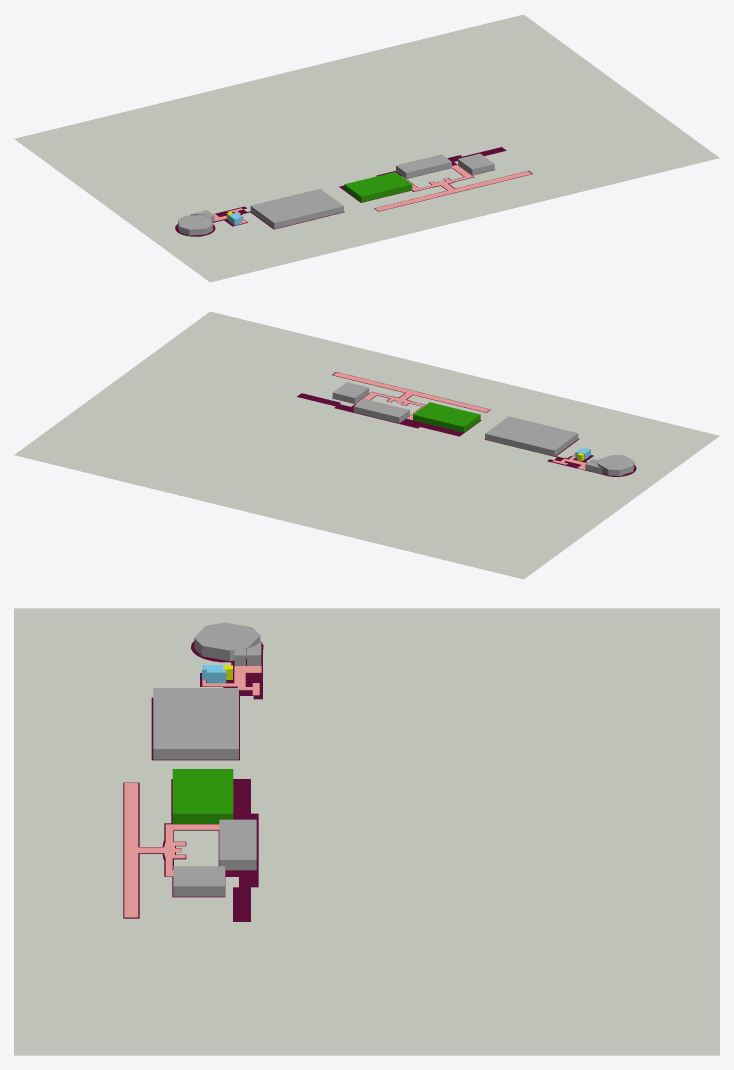
Rendered from njc-b1-v2-31-3.glb.
The picture shows the model from 3 angles, top to bottom: view 1: azimuth 30°, elevation 25°; view 2: azimuth 150°, elevation 25°; view 3: azimuth 270°, elevation 25°; orthographic projection. The views are drawn at different scales.
Parts seen in each view (by area): view 1: Grey, None, Base, Gymnasium Level 2, Foot, Material; view 2: Grey, None, Base, Gymnasium Level 2, Foot; view 3: Grey, None, Base, Foot, Gymnasium Level 2, Material.
Part boxes in pixels (x1=…): Grey: x1=14, y1=14, x2=719, y2=282; None: x1=178, y1=153, x2=494, y2=235; Base: x1=175, y1=147, x2=532, y2=236; Gymnasium Level 2: x1=344, y1=172, x2=412, y2=202; Foot: x1=213, y1=165, x2=531, y2=223; Material: x1=407, y1=168, x2=463, y2=187; Grey: x1=14, y1=311, x2=719, y2=579; None: x1=332, y1=382, x2=634, y2=475; Base: x1=297, y1=372, x2=636, y2=476; Gymnasium Level 2: x1=413, y1=402, x2=480, y2=432; Foot: x1=333, y1=372, x2=586, y2=469; Grey: x1=14, y1=608, x2=719, y2=1055; None: x1=153, y1=622, x2=261, y2=896; Base: x1=123, y1=641, x2=263, y2=921; Foot: x1=124, y1=666, x2=261, y2=917; Gymnasium Level 2: x1=172, y1=769, x2=233, y2=823; Material: x1=174, y1=830, x2=218, y2=866.
Bounding box in the file's own units: 18 × 0.2 × 12.
